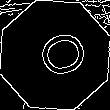O_W: (24, 26, 86, 84)
